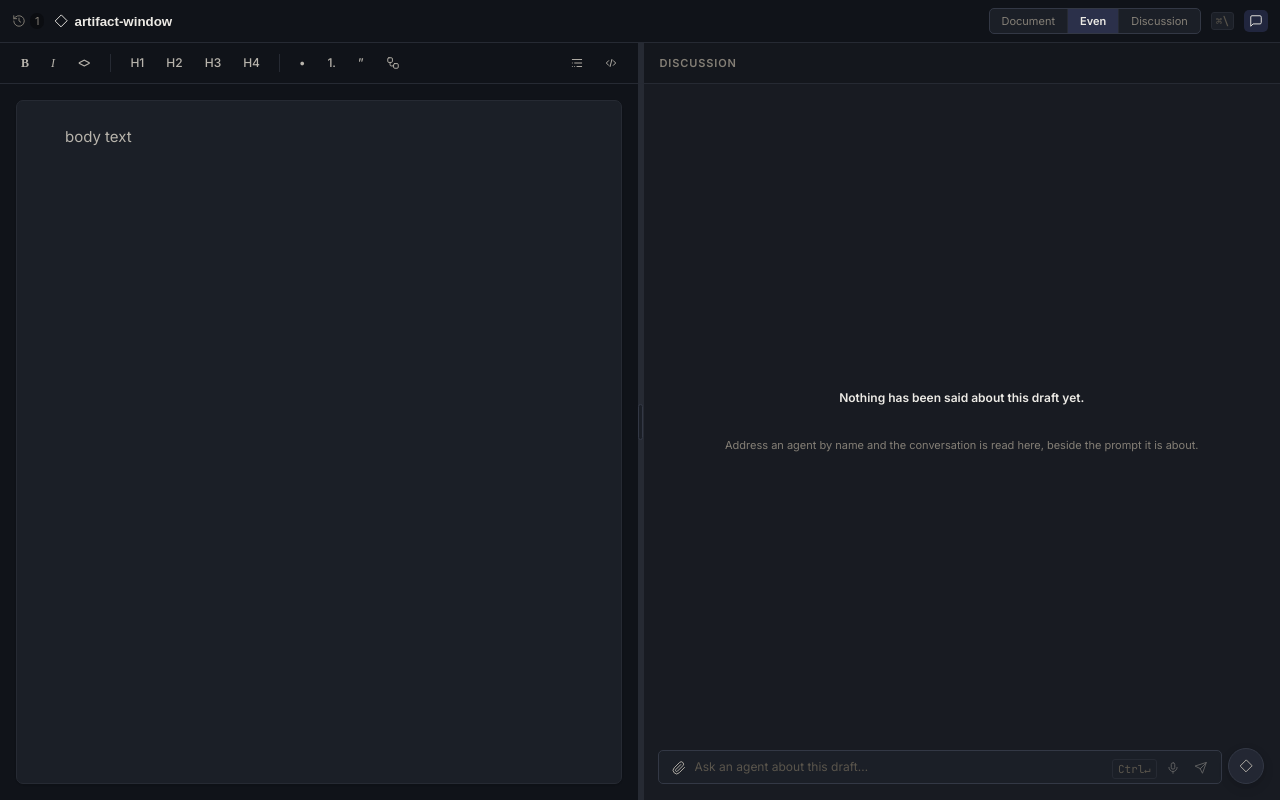
Test case: New Artifact workspace — a GitHub-shadow draft › NAW-FR-UEWC: an ordinary draft carries no shadow banner or tag
The image size is (1280, 800).
Click the button named "Draft actions".
click(1246, 766)  # box x1=1228 y1=748 x2=1264 y2=784
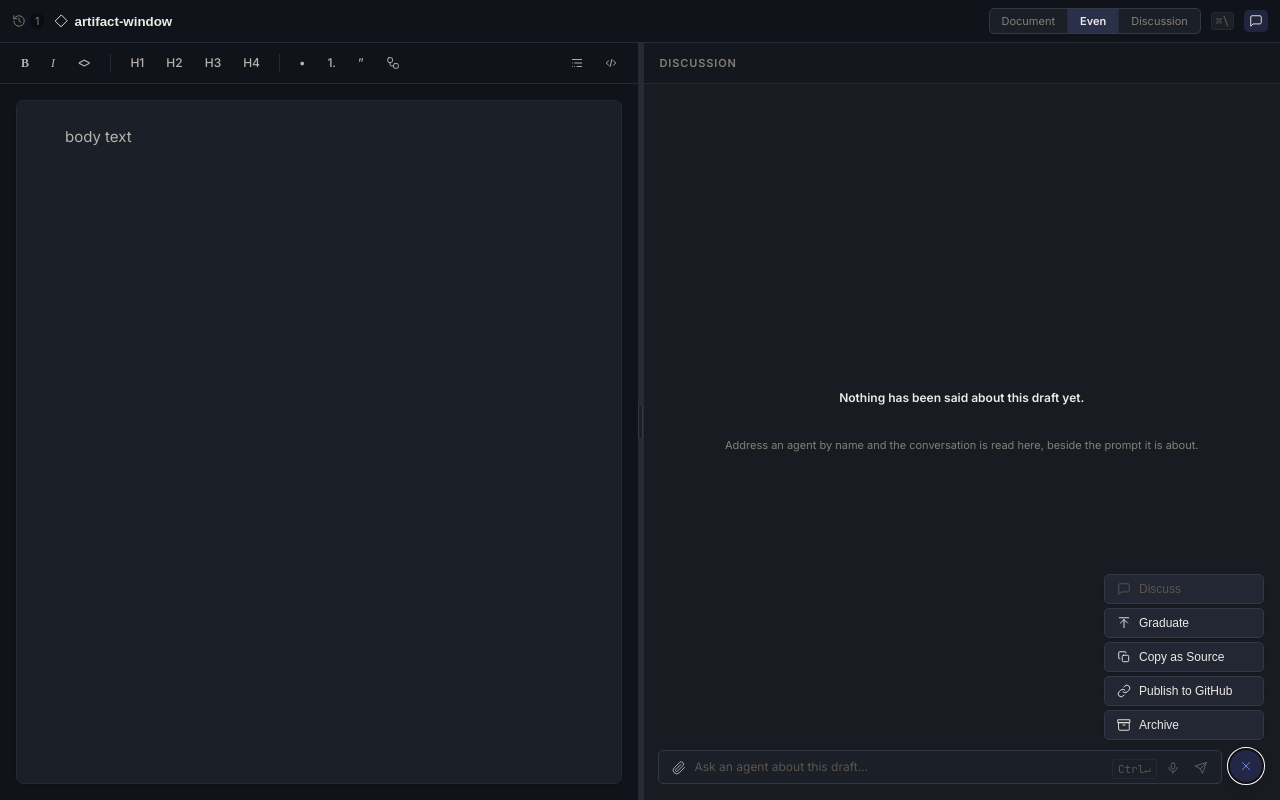
expect the menu item "Archive" is enabled: met, box x1=1104 y1=710 x2=1264 y2=740
